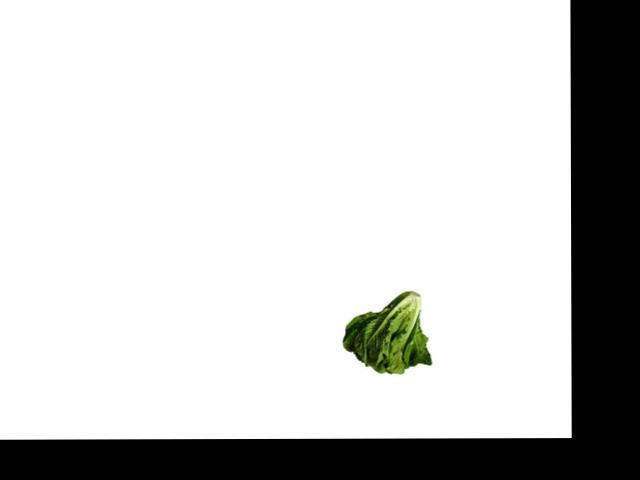lettuce: (341, 286, 433, 377)
